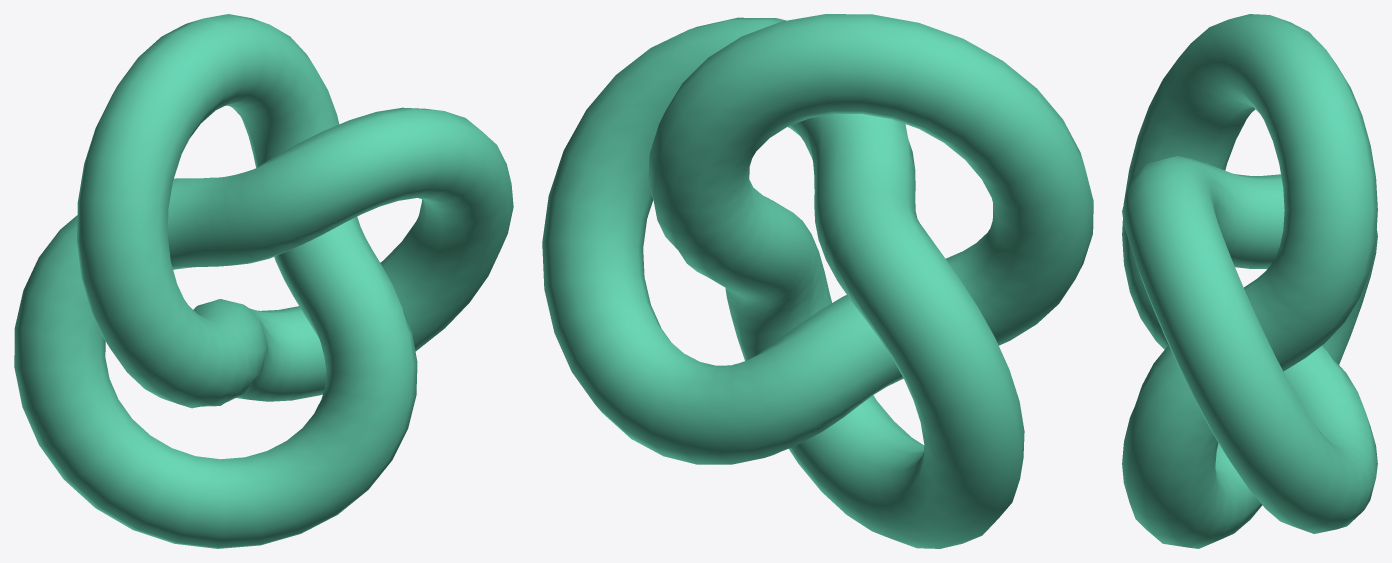
Rendered from sample-a.glb.
3 renders of one model, left to right at view 1: azimuth 30°, elevation 25°; view 2: azimuth 150°, elevation 25°; view 3: azimuth 270°, elevation 25°, orthographic. The views are drawn at different scales.
Size of the model in its own units: 2.6 by 2.71 by 1.26.
